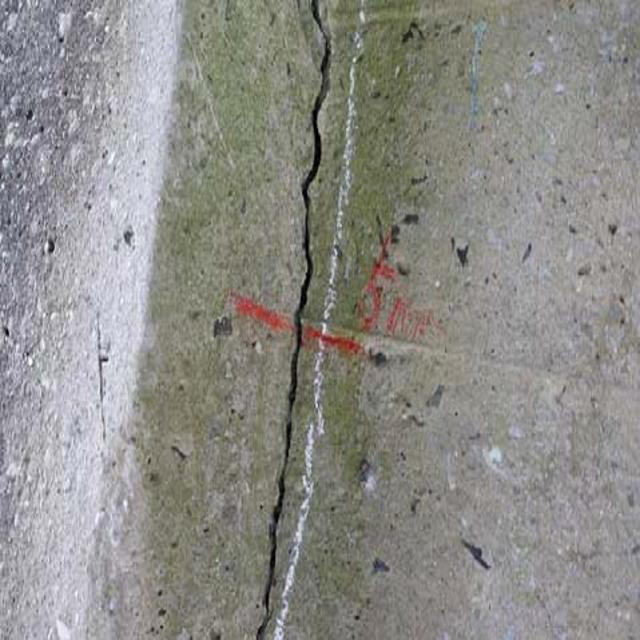crack: (251, 10, 346, 640)
